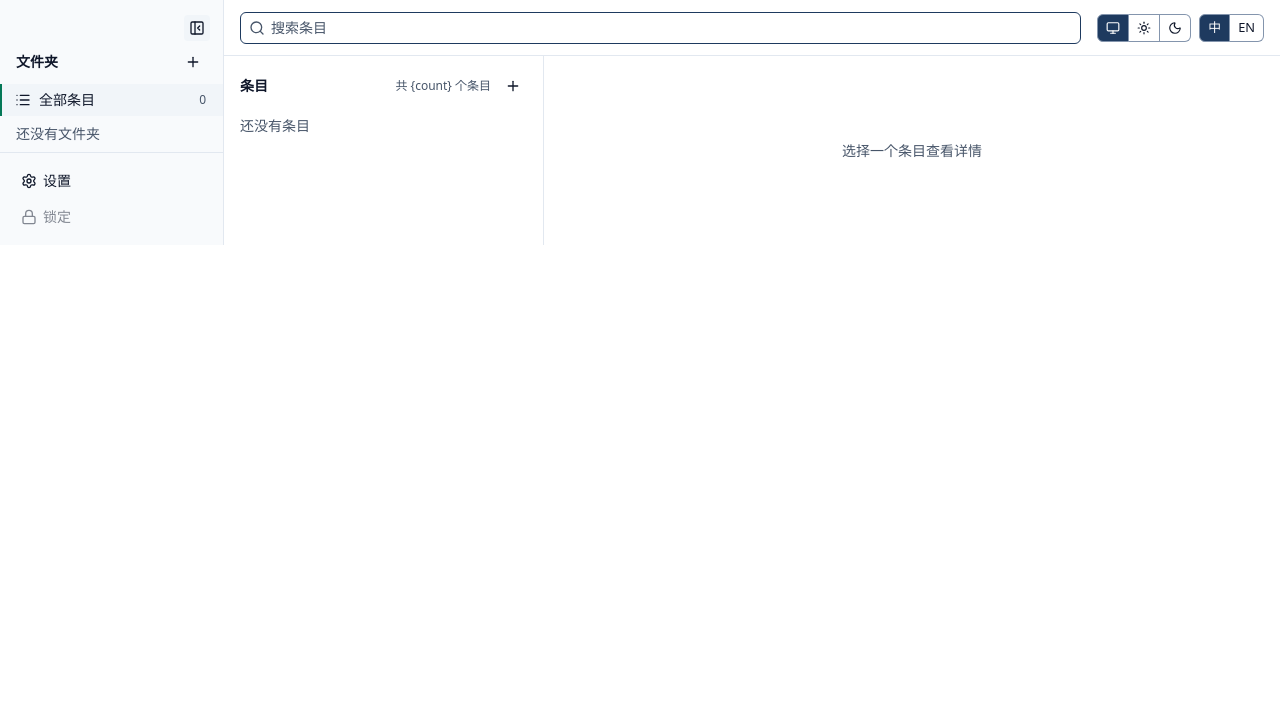
Test: 设置里的标签分区 › 读取标签失败时说明原因
This screenshot has width=1280, height=720.
Click the button "设置": (112, 181) [12,165,211,197]
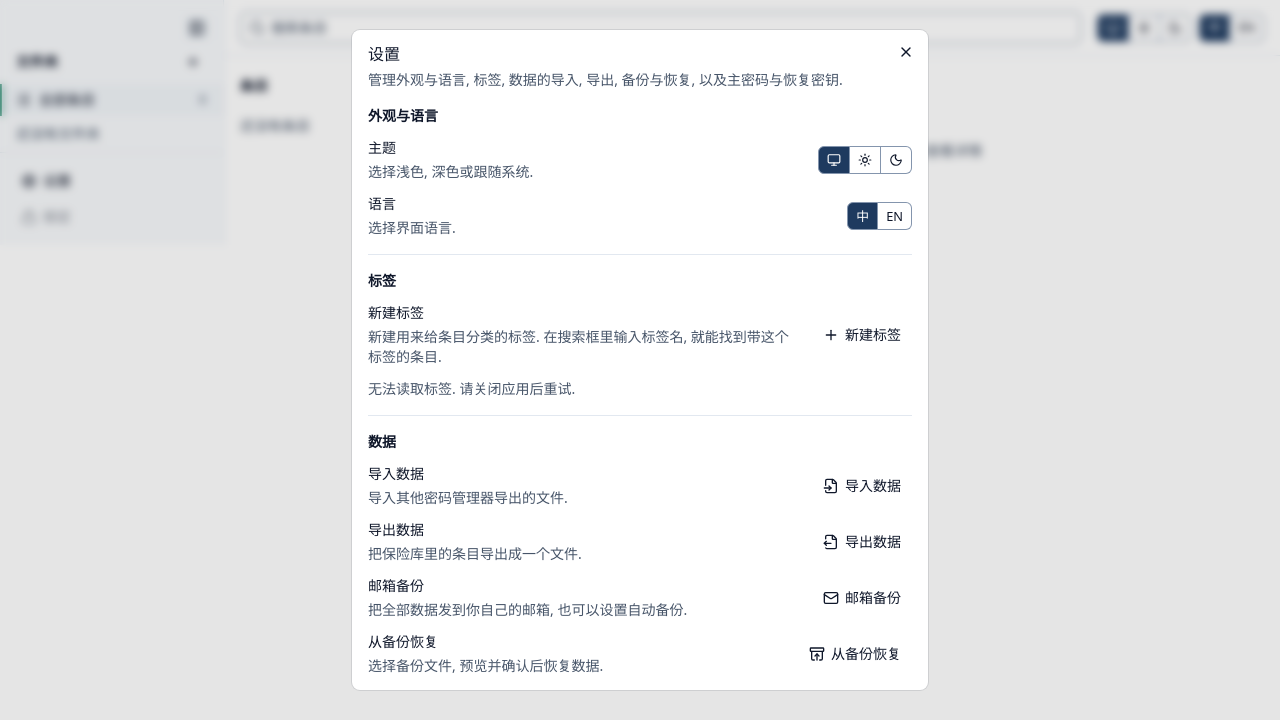
Check: the text "无法读取标签. 请关闭应用后重试." is shown, box [368,379,575,398]
